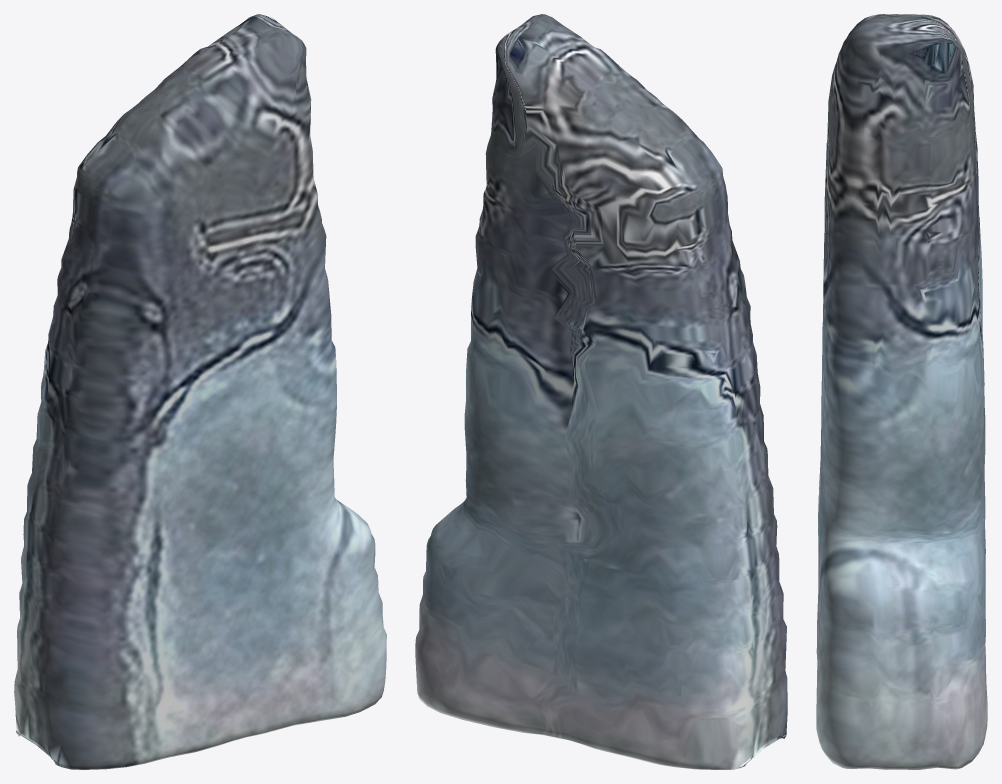
Rendered from door_stone.glb.
3 renders of one model, left to right at view 1: azimuth 30°, elevation 25°; view 2: azimuth 150°, elevation 25°; view 3: azimuth 270°, elevation 25°, orthographic. The views are drawn at different scales.
Parts seen in each view (by area): view 1: door_stone; view 2: door_stone; view 3: door_stone.
Boxes of the visible parts, x1,y1,x2,y2 form: door_stone: (14, 14, 386, 769); door_stone: (415, 14, 787, 769); door_stone: (816, 14, 987, 769).
Size of the model in its own units: 0.5178 by 0.9999 by 0.2193.
1 material, 1 textured.
